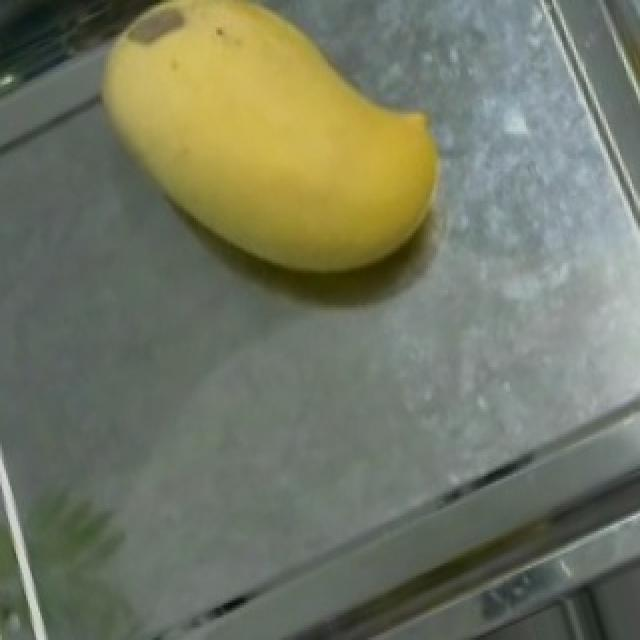fruit: (68, 0, 460, 320)
